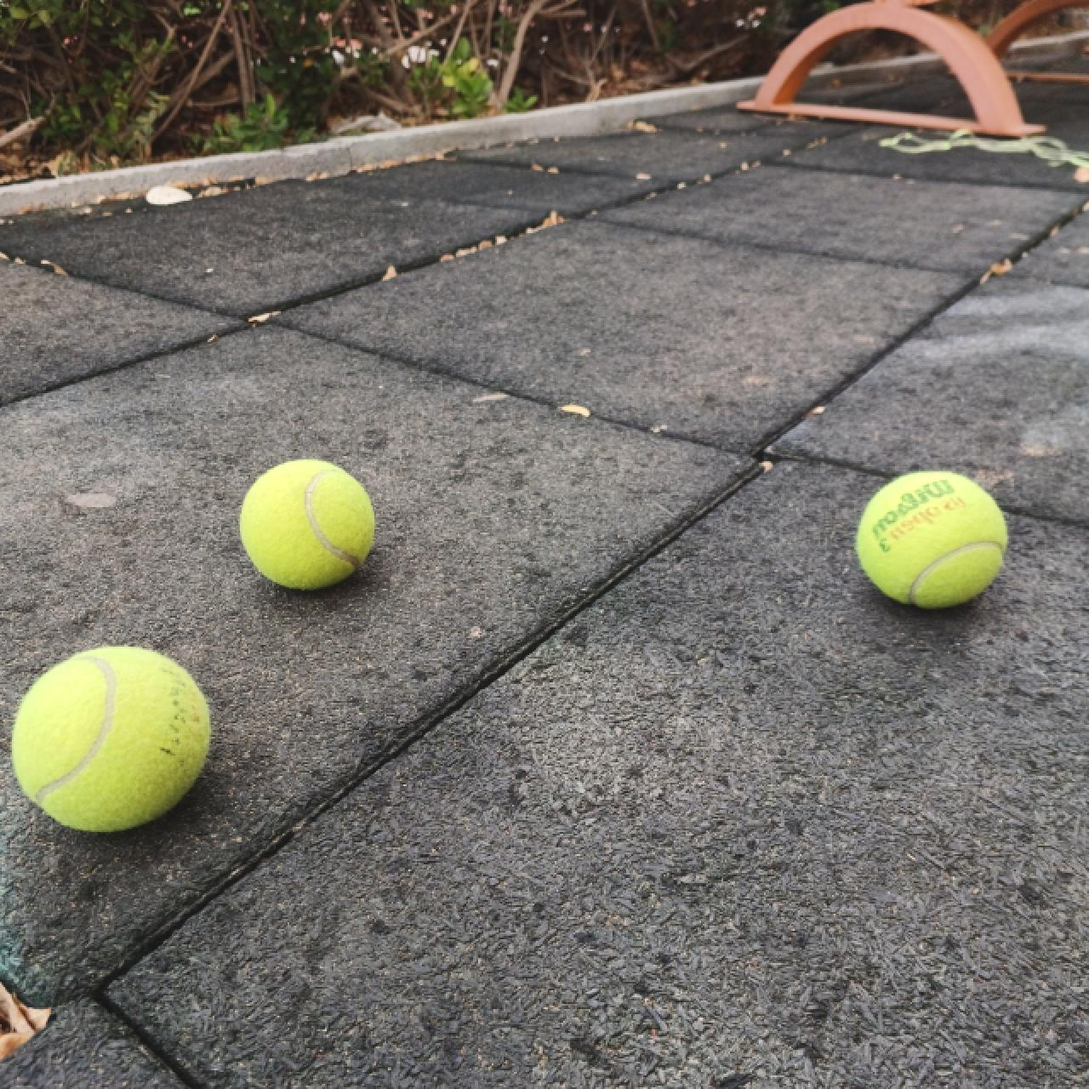tennis-ball: (12, 642, 209, 837), (857, 467, 1007, 609), (238, 456, 378, 593)
